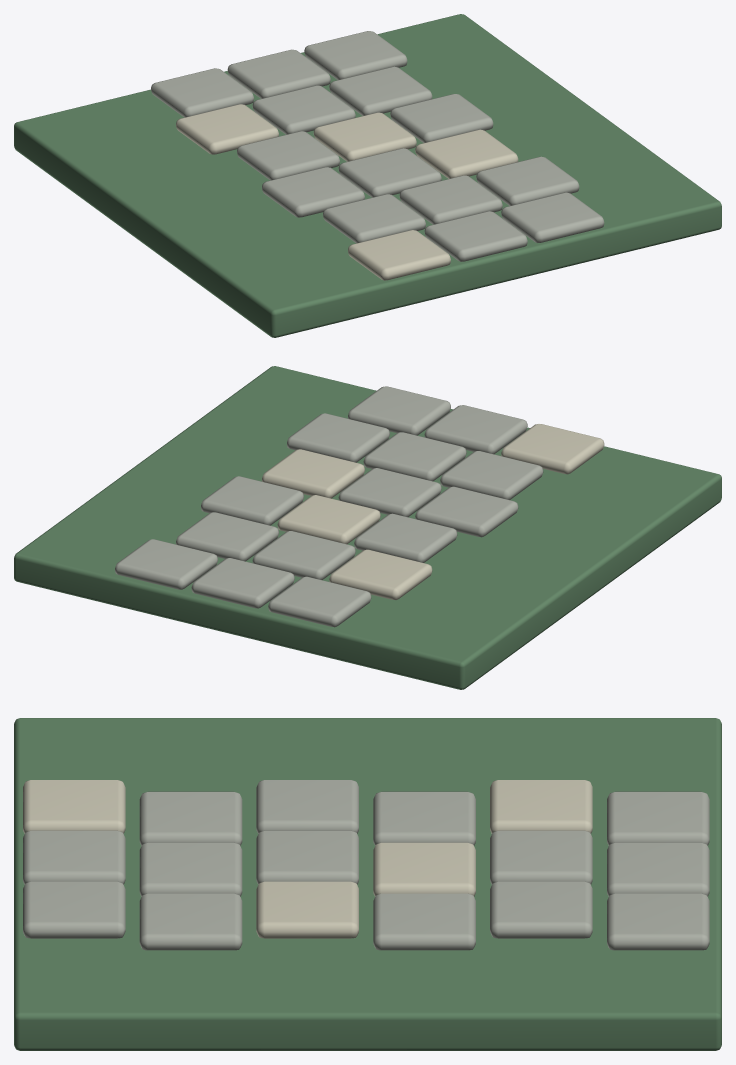
The model's file is SM_Path_Stone_4m.fbx.
The picture shows the model from 3 angles, top to bottom: view 1: azimuth 30°, elevation 25°; view 2: azimuth 150°, elevation 25°; view 3: azimuth 270°, elevation 25°; orthographic projection. The views are drawn at different scales.
Parts seen in each view (by area): view 1: SM_Path_Stone_4m; view 2: SM_Path_Stone_4m; view 3: SM_Path_Stone_4m.
Part boxes in pixels (x1,y1,x2,y2): SM_Path_Stone_4m: [14, 14, 721, 337]; SM_Path_Stone_4m: [14, 366, 721, 689]; SM_Path_Stone_4m: [14, 718, 721, 1050].
Bounding box in the file's own units: 4 × 0.33 × 4.
